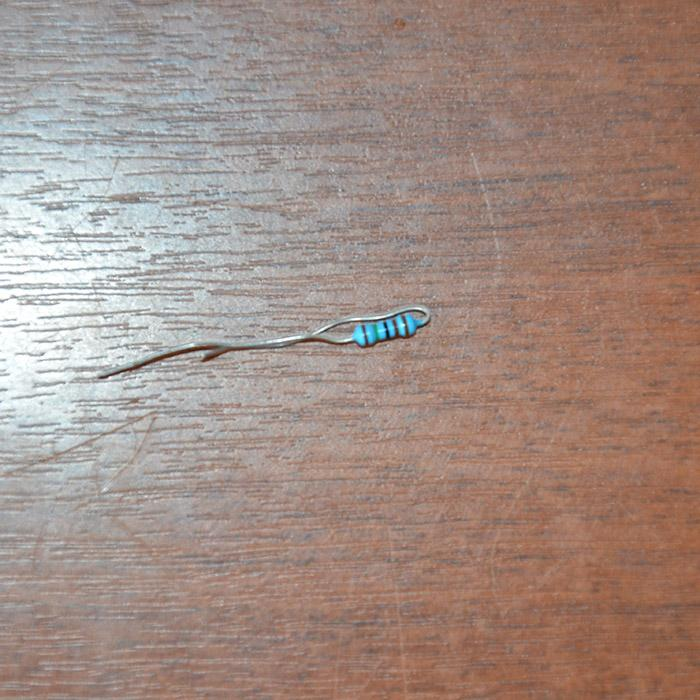resistor: (351, 311, 421, 347)
